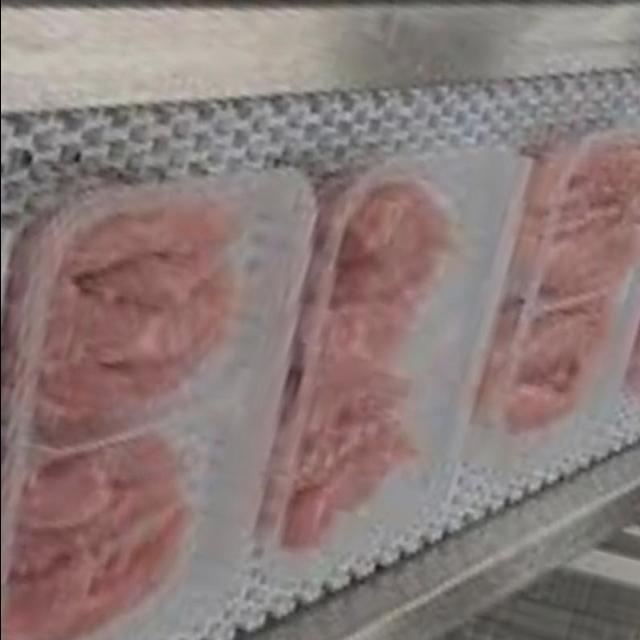food: (2, 163, 320, 638), (250, 163, 480, 578), (474, 126, 640, 440)
